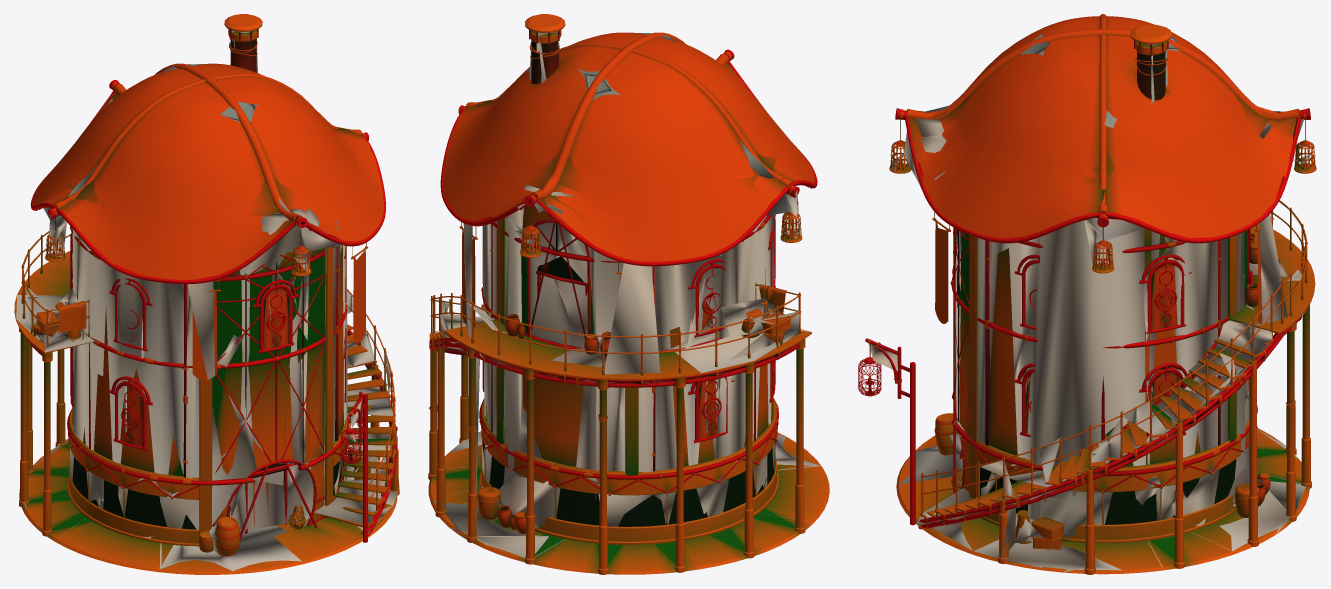
File: KB3D_GAE_BldgSM_E.glb
3 renders of one model, left to right at view 1: azimuth 30°, elevation 25°; view 2: azimuth 150°, elevation 25°; view 3: azimuth 270°, elevation 25°, orthographic. The views are drawn at different scales.
Parts seen in each view (by area): view 1: L0, L2, L1; view 2: L0, L2, L1; view 3: L0, L2, L1.
Part boxes in pixels (x1,y1,x2,y2): L0: (14, 14, 399, 574); L2: (16, 30, 399, 571); L1: (22, 15, 396, 548); L0: (428, 14, 829, 574); L2: (432, 31, 826, 557); L1: (429, 15, 816, 558); L0: (858, 14, 1316, 574); L2: (860, 34, 1310, 572); L1: (858, 25, 1315, 559).
Size of the model in its own units: 11.25 by 14.48 by 12.26.
